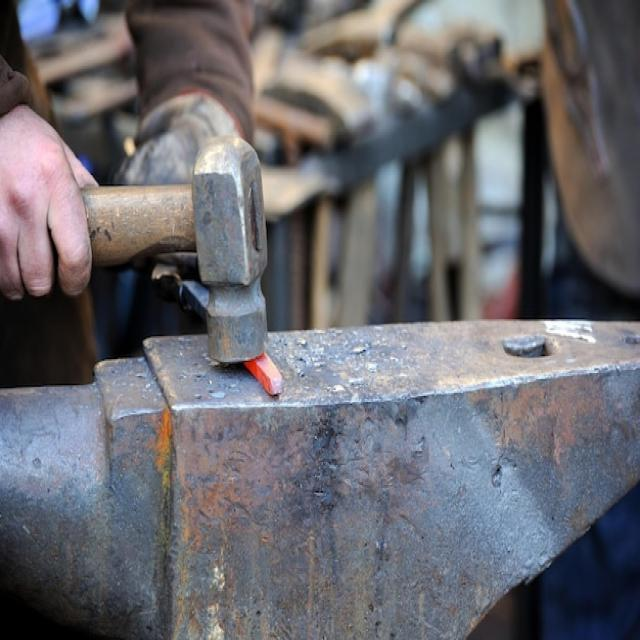hammer: (82, 129, 276, 376)
